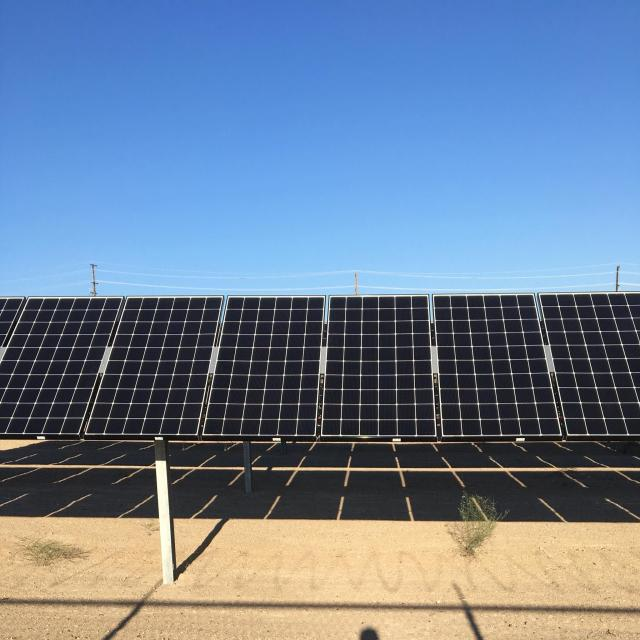clean-solar-panel: (0, 293, 640, 439)
